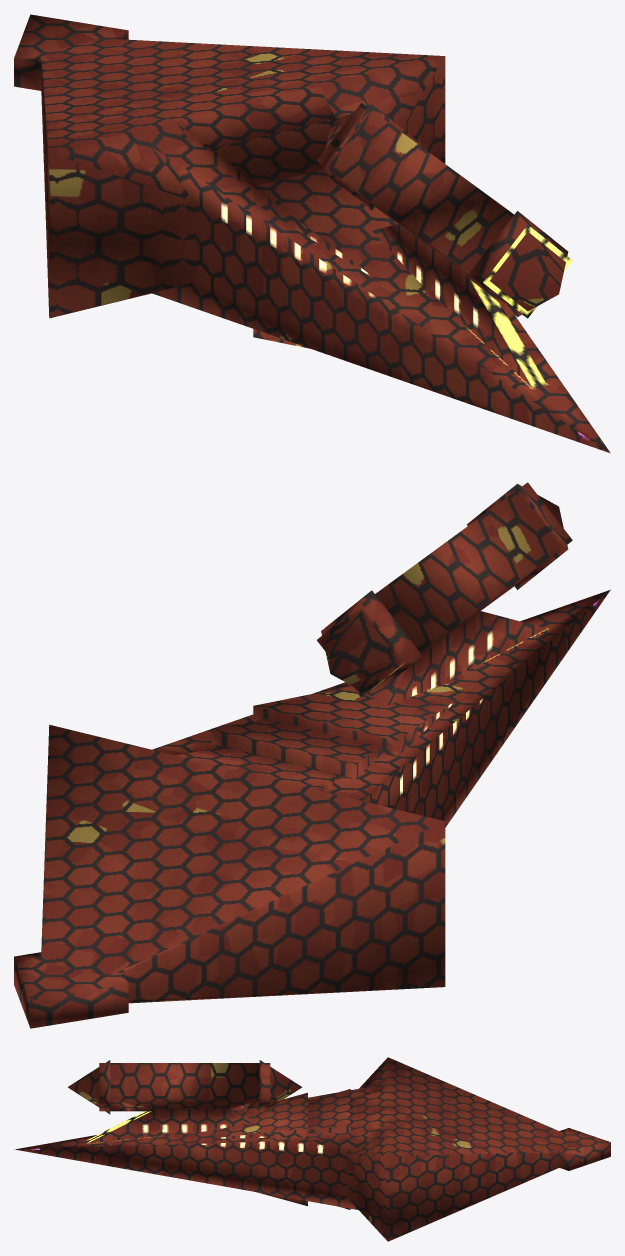
The model's file is zandrax_destroyer.glb.
The picture shows the model from 3 angles, top to bottom: view 1: azimuth 30°, elevation 25°; view 2: azimuth 150°, elevation 25°; view 3: azimuth 270°, elevation 25°; orthographic projection. The views are drawn at different scales.
Parts seen in each view (by area): view 1: ZandraxDestroyer; view 2: ZandraxDestroyer; view 3: ZandraxDestroyer.
Boxes of the visible parts, x1,y1,x2,y2 form: ZandraxDestroyer: [14, 14, 610, 453]; ZandraxDestroyer: [14, 482, 610, 1028]; ZandraxDestroyer: [14, 1057, 610, 1241].
Size of the model in its own units: 22 by 13.66 by 55.86.
1 material, 1 textured.
